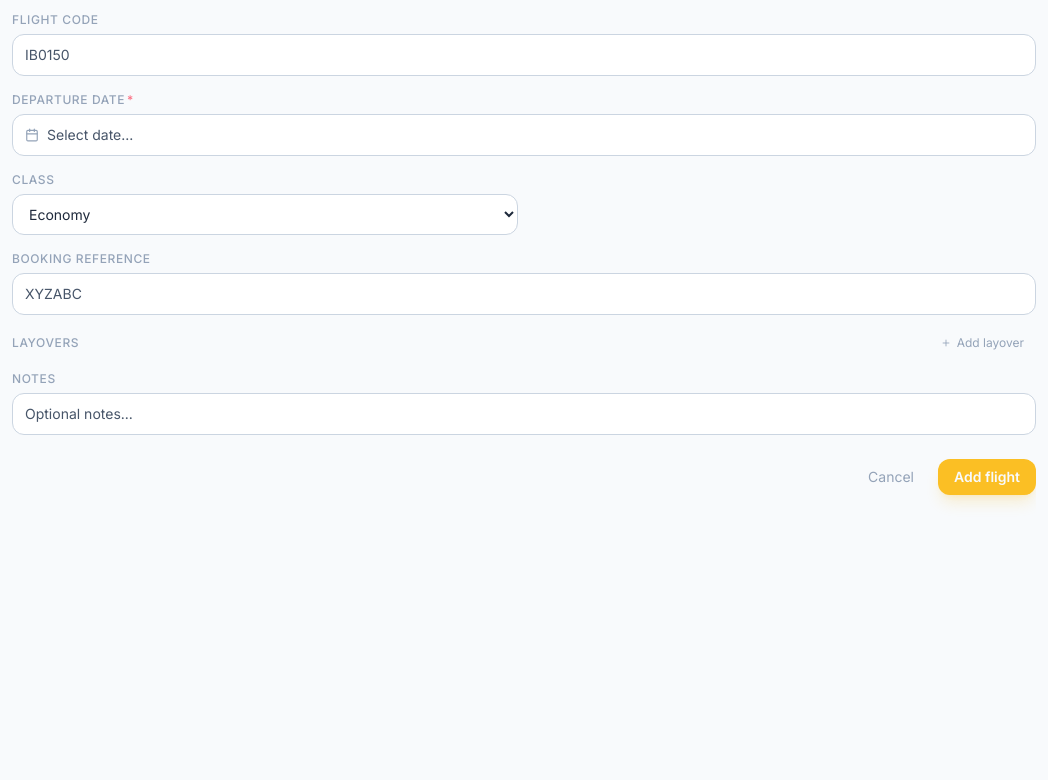
it: FlightForm › layovers › adds multiple layovers
What coordinates should you click on to do the following:
click the button "Add layover"
I would click on:
 (982, 343)
Its box is [929, 331, 1036, 355].
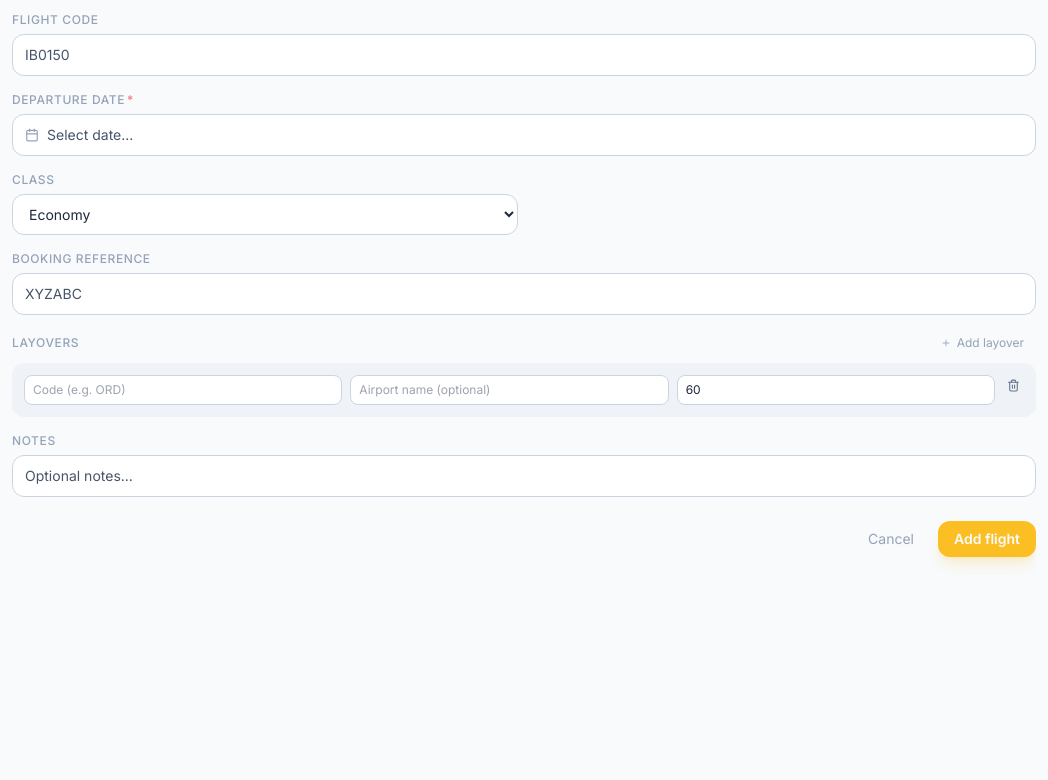
What coordinates should you click on to do the following:
click the button "Add layover"
I would click on:
 (982, 343)
Its box is [929, 331, 1036, 355].
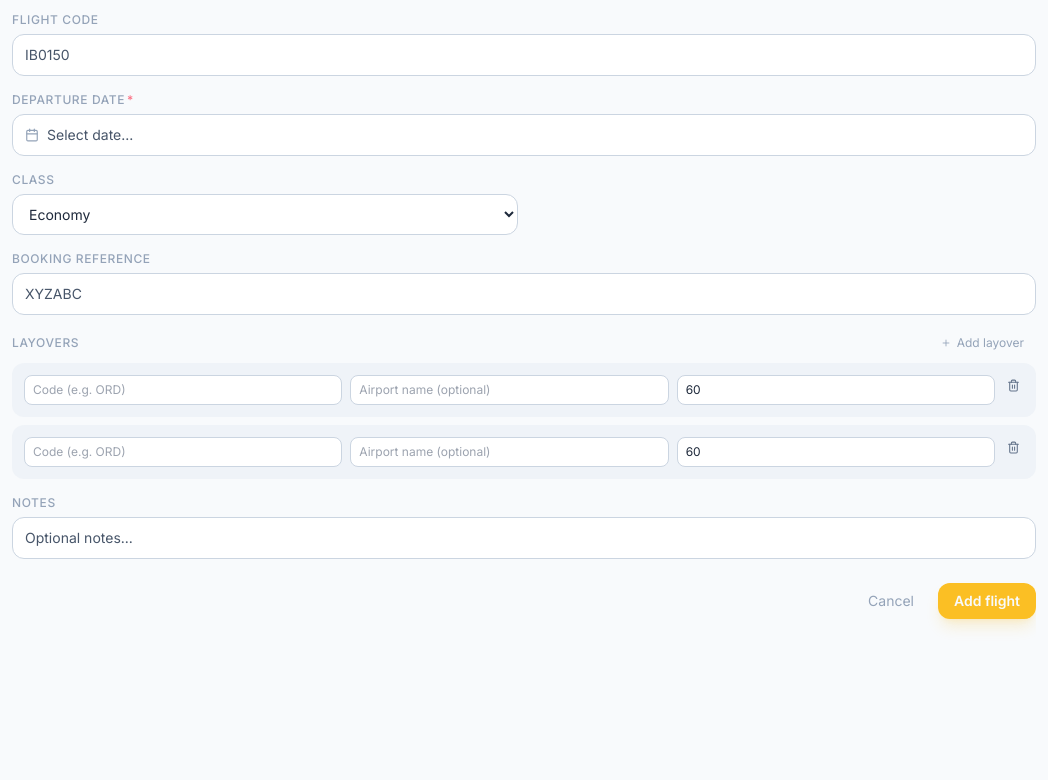
Expected: the number of number fields showing "60" is 2, [677, 375, 995, 405]; [677, 437, 995, 467]
